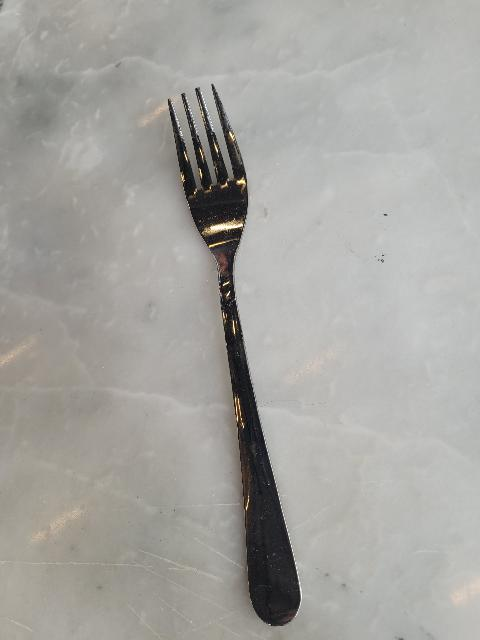Metal: (167, 81, 303, 629)
